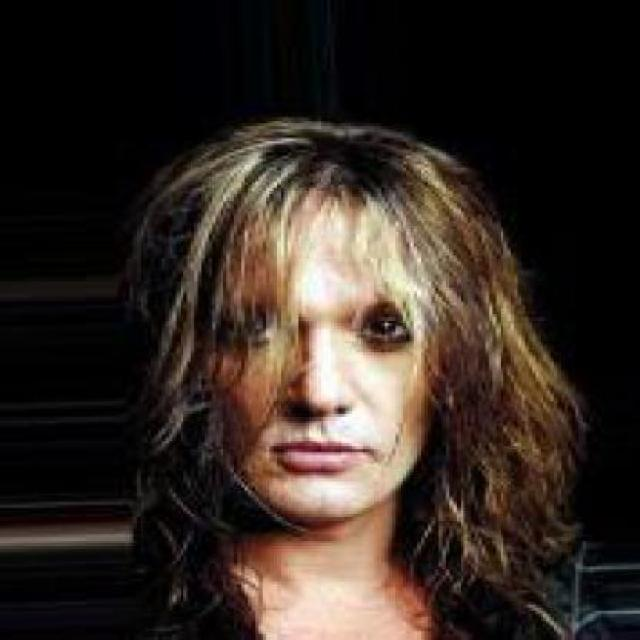closed-mouth: (262, 436, 380, 474)
